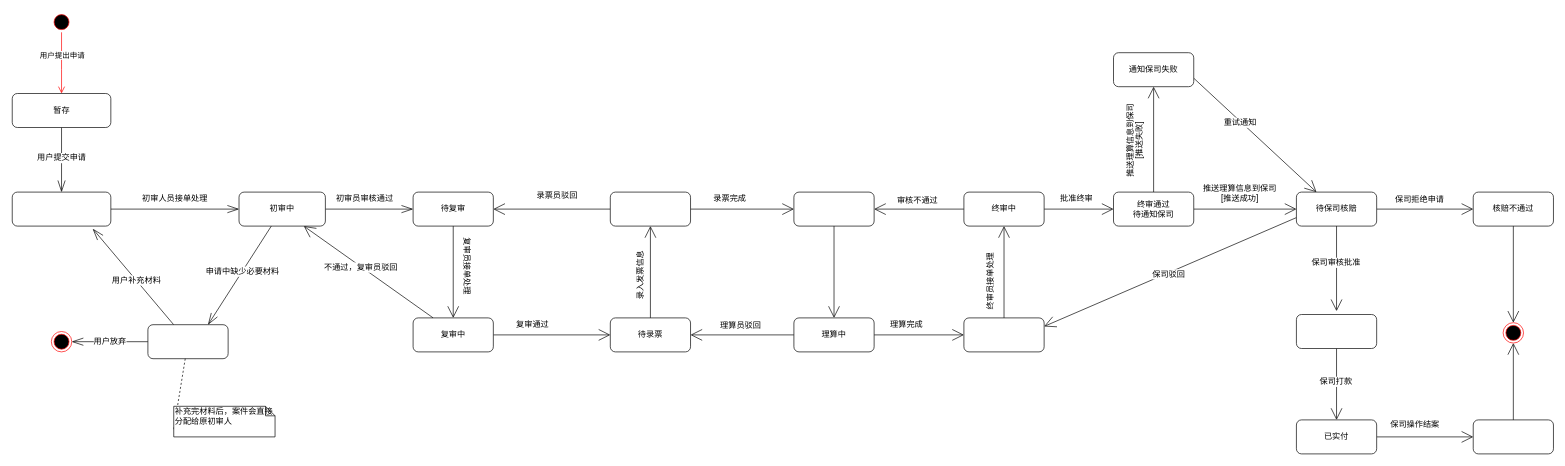
The diagram is 1565 pixels wide and 466 high, and some of its shapes have lost their labels. The shapes that lost their labels are listed below. From the top down, each one's centre as x and y in pixels, then its label:
point 61,208: 待初审
point 650,208: 录票中
point 833,208: 待理算
point 187,341: 待补充材料
point 1003,334: 待终审
point 1336,331: 核赔通过
point 1513,436: 已结案
